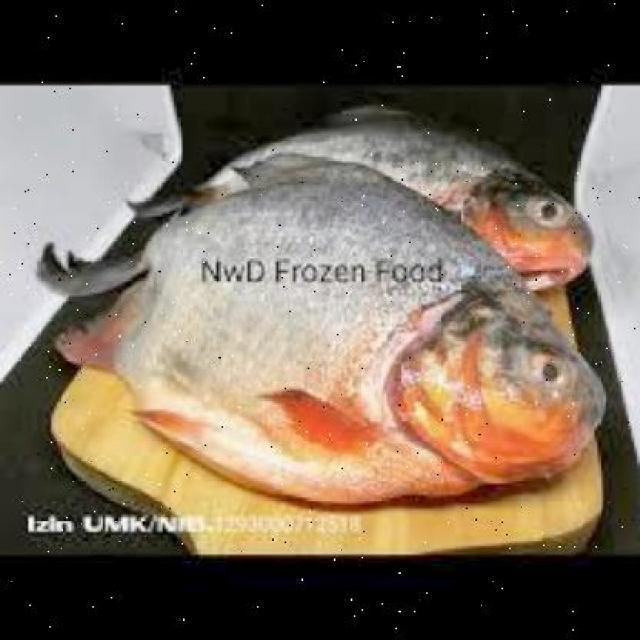ikan-pacu: (104, 171, 610, 497), (249, 113, 588, 275)
